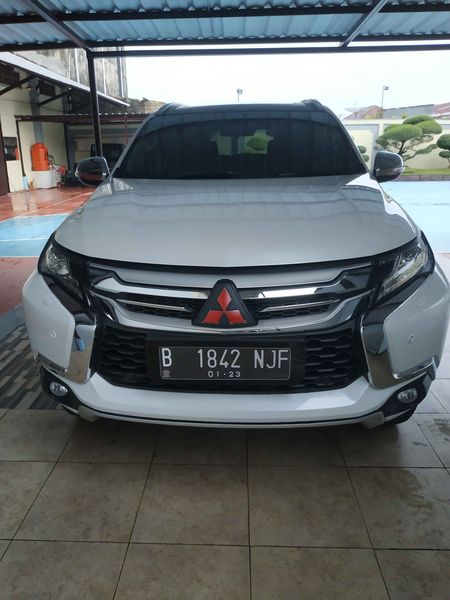plate: (154, 337, 297, 381)
